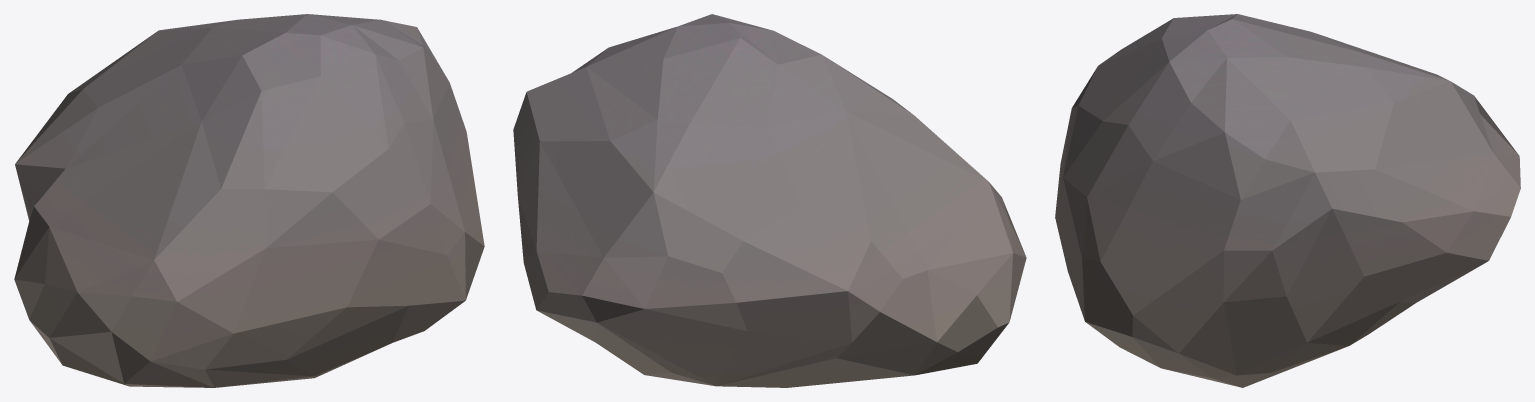
3 views of the same model, side by side, from view 1: azimuth 30°, elevation 25°; view 2: azimuth 150°, elevation 25°; view 3: azimuth 270°, elevation 25° (orthographic). The views are drawn at different scales.
Parts seen in each view (by area): view 1: RockGrey2_high; view 2: RockGrey2_high; view 3: RockGrey2_high.
Boxes of the visible parts, left/top/right/bottom form: RockGrey2_high: left=14, top=14, right=484, bottom=387; RockGrey2_high: left=513, top=14, right=1026, bottom=387; RockGrey2_high: left=1055, top=14, right=1520, bottom=387.
Bounding box in the file's own units: 4.64 × 3.21 × 4.09.
1 material, 1 textured.
